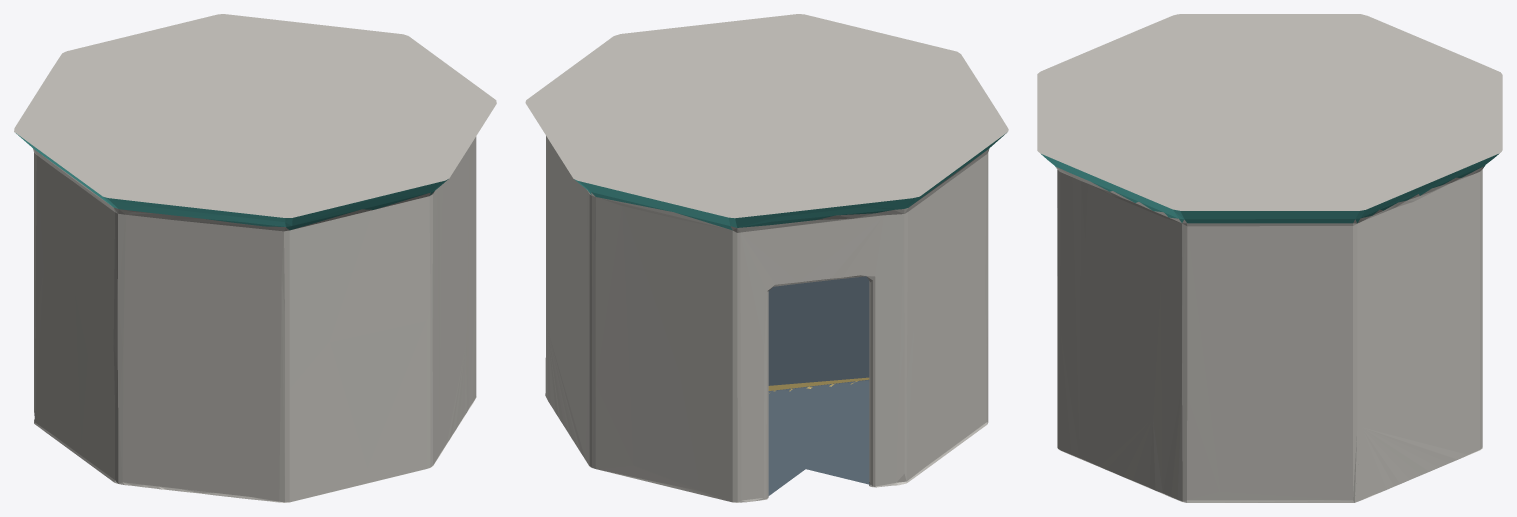
File: etape-1.glb
3 views of the same model, side by side, from view 1: azimuth 30°, elevation 25°; view 2: azimuth 150°, elevation 25°; view 3: azimuth 270°, elevation 25° (orthographic). The views are drawn at different scales.
Visible parts, largest first — view 1: geometry_0; view 2: geometry_0; view 3: geometry_0.
Boxes of the visible parts, x1,y1,x2,y2 form: geometry_0: [14, 14, 496, 502]; geometry_0: [525, 14, 1008, 502]; geometry_0: [1037, 14, 1502, 502].
Bounding box in the file's own units: 0.8522 × 0.6062 × 0.8512.
